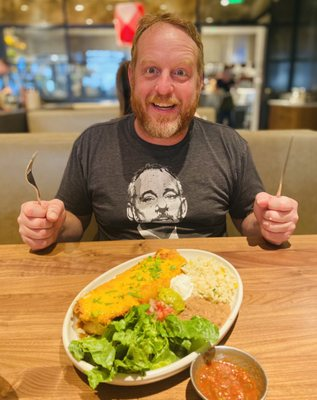sushi: (63, 246, 243, 390), (189, 346, 268, 400)
